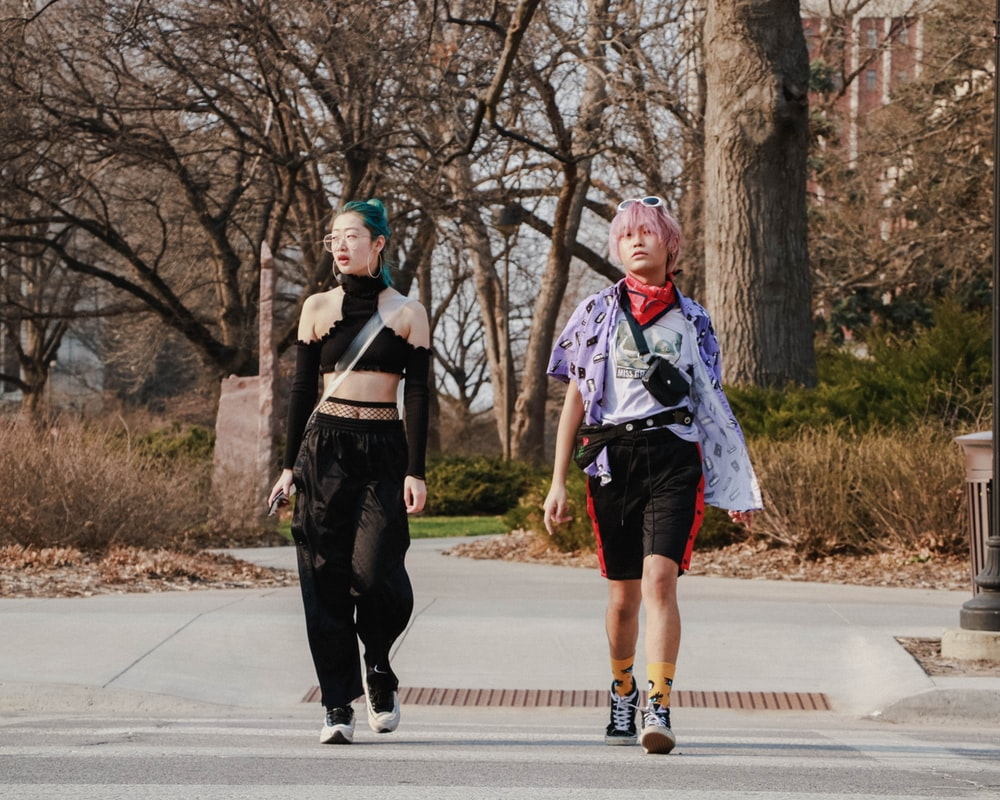person: (524, 191, 771, 758), (262, 190, 443, 755)
